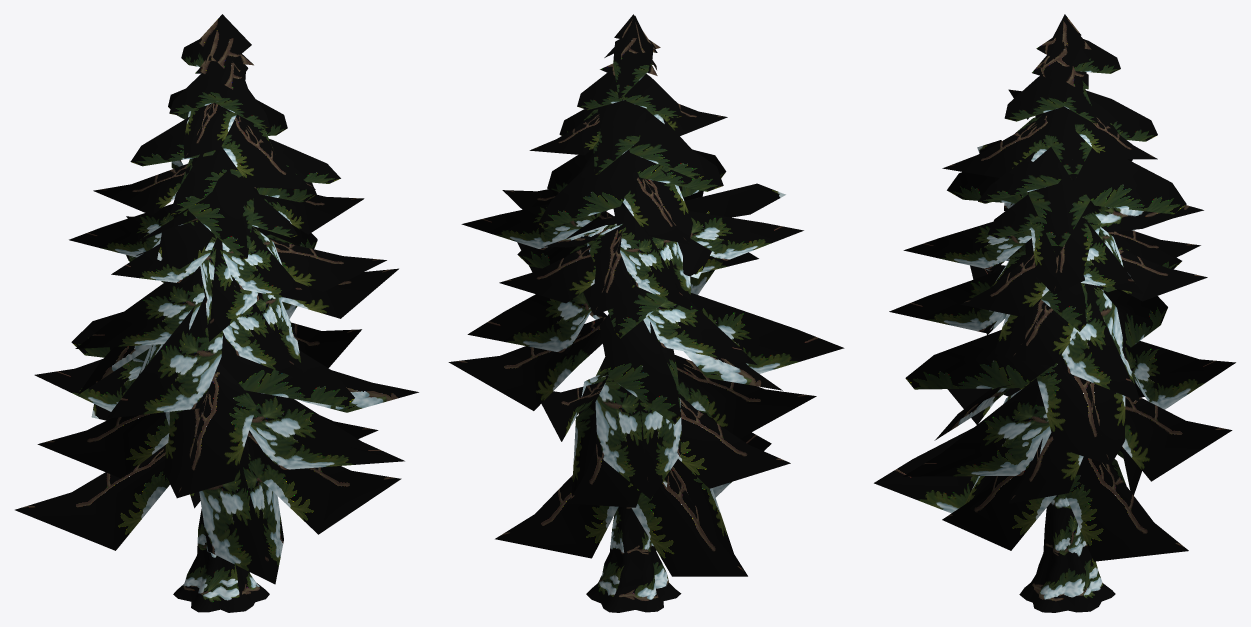
File: Spruce_Winter.glb
3 views of the same model, side by side, from view 1: azimuth 30°, elevation 25°; view 2: azimuth 150°, elevation 25°; view 3: azimuth 270°, elevation 25° (orthographic).
Visible parts, largest first — view 1: Spruce_Winter; view 2: Spruce_Winter; view 3: Spruce_Winter.
Boxes of the visible parts, x1,y1,x2,y2 form: Spruce_Winter: (15, 14, 418, 612); Spruce_Winter: (448, 14, 844, 612); Spruce_Winter: (874, 14, 1235, 612).
Bounding box in the file's own units: 27.34 × 45.36 × 25.7.
1 material, 1 textured.
